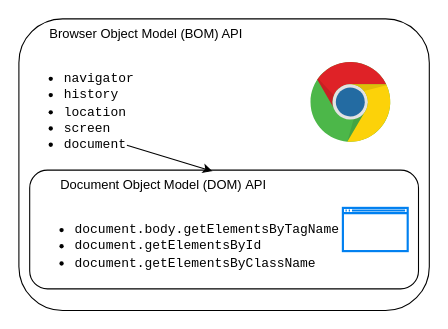
This 448x329 diagram has some shape labels left out. Each missing label, with the centre of its shape:
"HTML" goes at point 374,229.
"Navigateur" goes at point 350,102.
